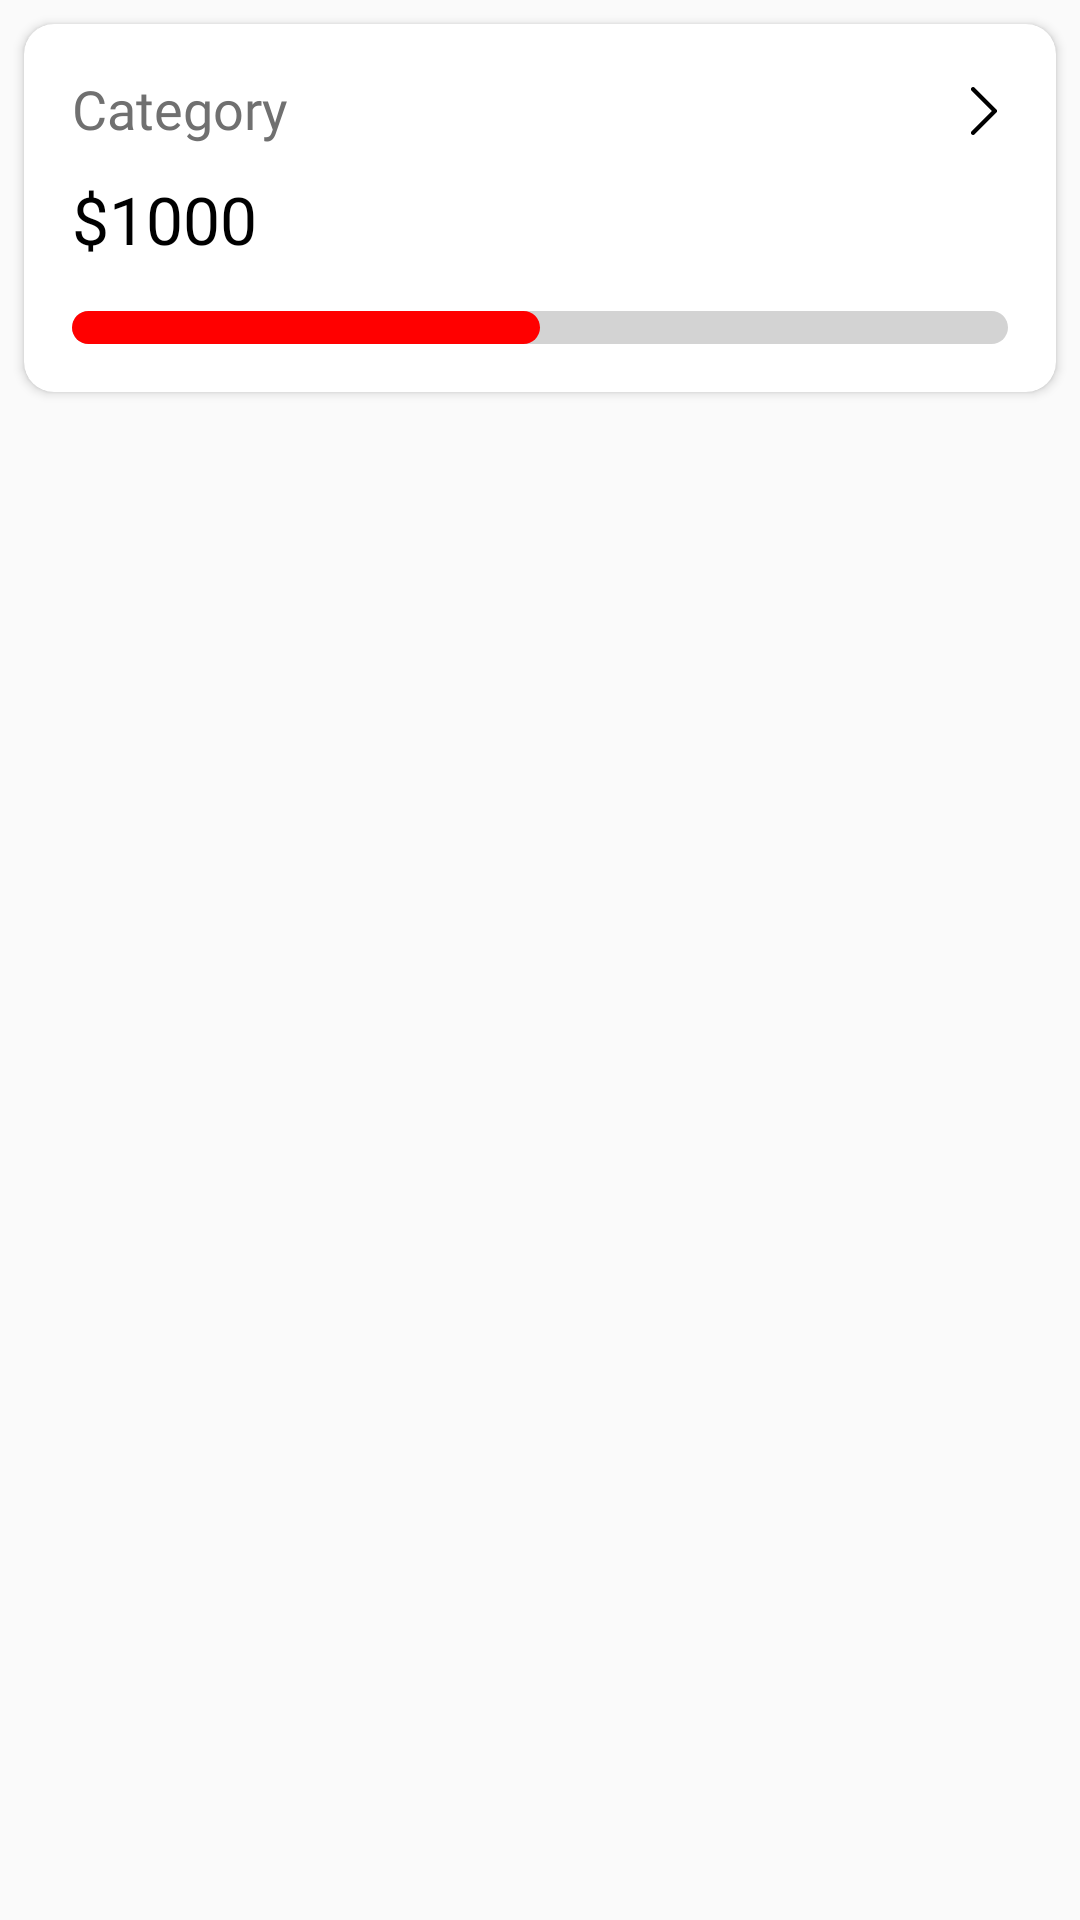

Named icons in this screenshot (1080*1920) and their centers, (x=x, y=y):
right arrow: (x=984, y=111)
